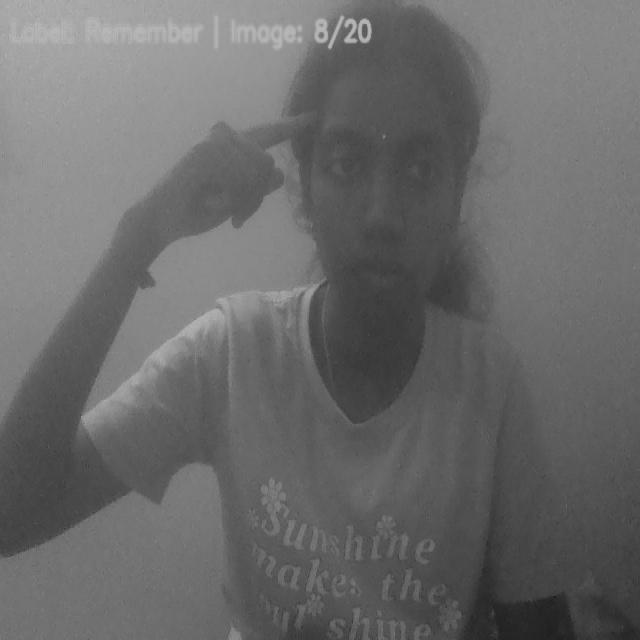Remember: (114, 108, 323, 271)
